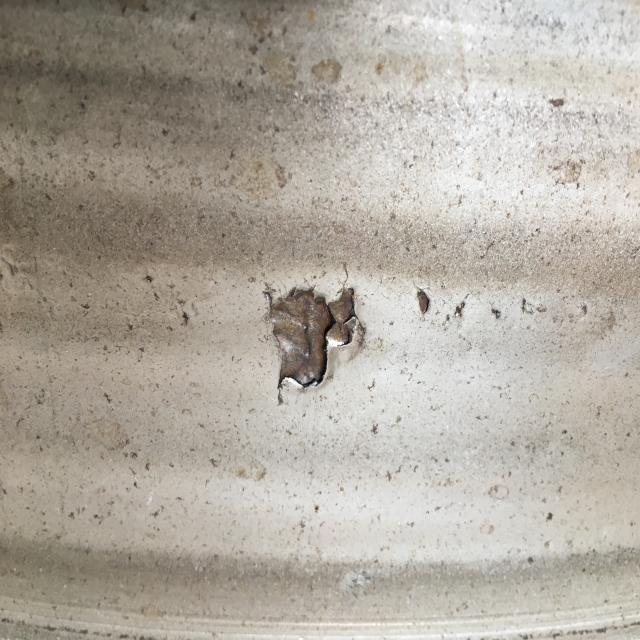Blue hole: (266, 287, 360, 391)
Peeling: (417, 287, 433, 317), (455, 295, 469, 318), (491, 305, 502, 319)
